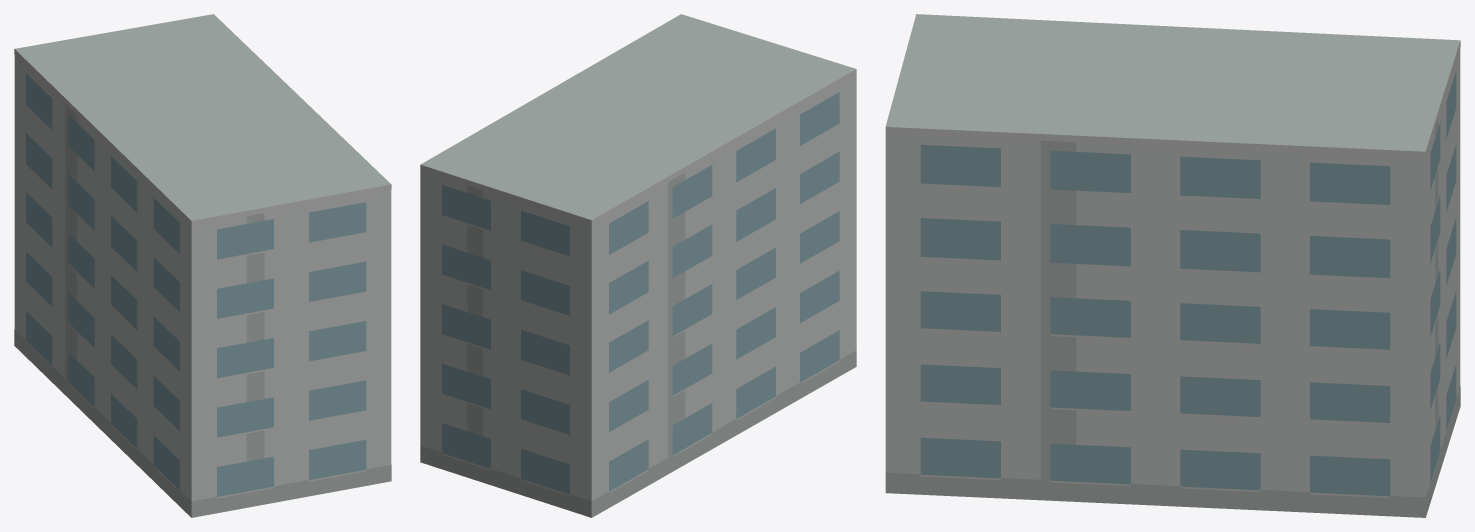
Rendered from survey-upis-32924560.glb.
The picture shows the model from 3 angles, left to right: view 1: azimuth 30°, elevation 25°; view 2: azimuth 150°, elevation 25°; view 3: azimuth 270°, elevation 25°; orthographic projection. The views are drawn at different scales.
Parts seen in each view (by area): view 1: survey-upis-32924560.tmp; view 2: survey-upis-32924560.tmp; view 3: survey-upis-32924560.tmp.
Boxes of the visible parts, x1,y1,x2,y2 form: survey-upis-32924560.tmp: [14, 14, 391, 517]; survey-upis-32924560.tmp: [420, 14, 856, 517]; survey-upis-32924560.tmp: [885, 14, 1460, 517].
Size of the model in its own units: 10.89 by 13.5 by 19.22.
